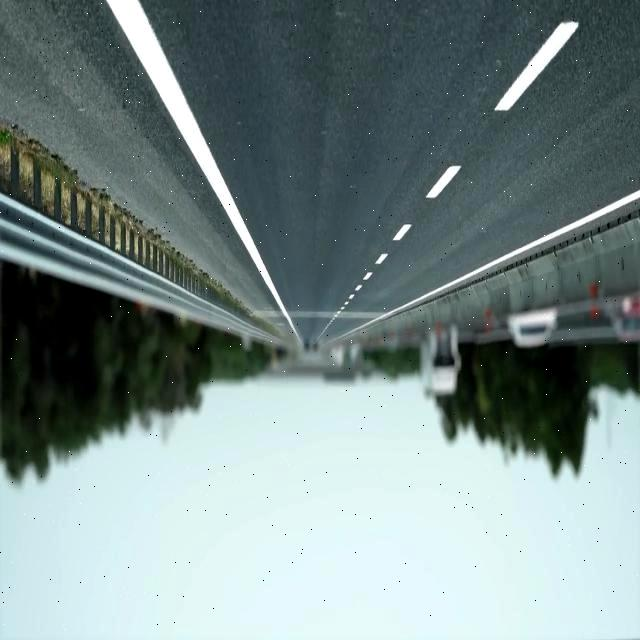lane: (108, 1, 288, 319), (338, 189, 639, 339), (496, 21, 579, 110), (427, 165, 459, 198), (392, 224, 411, 241), (376, 253, 389, 264)
road: (142, 1, 640, 342), (1, 1, 288, 333)
